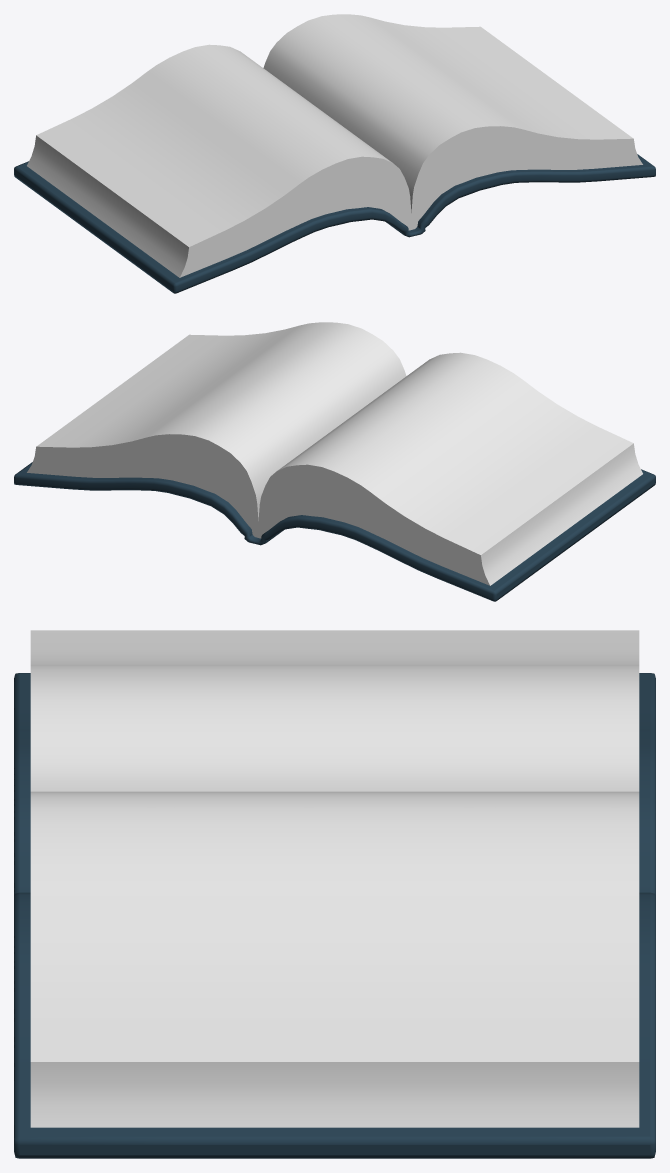
Rendered from 104_open_book.glb.
3 renders of one model, top to bottom at view 1: azimuth 30°, elevation 25°; view 2: azimuth 150°, elevation 25°; view 3: azimuth 270°, elevation 25°, orthographic. The views are drawn at different scales.
Parts seen in each view (by area): view 1: Plane.001, Plane; view 2: Plane.001, Plane; view 3: Plane.001, Plane.
Part boxes in pixels (<box>): Plane.001: <box>27,14,642,277</box>; Plane: <box>14,154,655,293</box>; Plane.001: <box>27,322,642,585</box>; Plane: <box>14,462,655,601</box>; Plane.001: <box>30,630,639,1127</box>; Plane: <box>14,673,655,1158</box>.
Bounding box in the file's own units: 0.9708 × 0.1725 × 0.5627.
